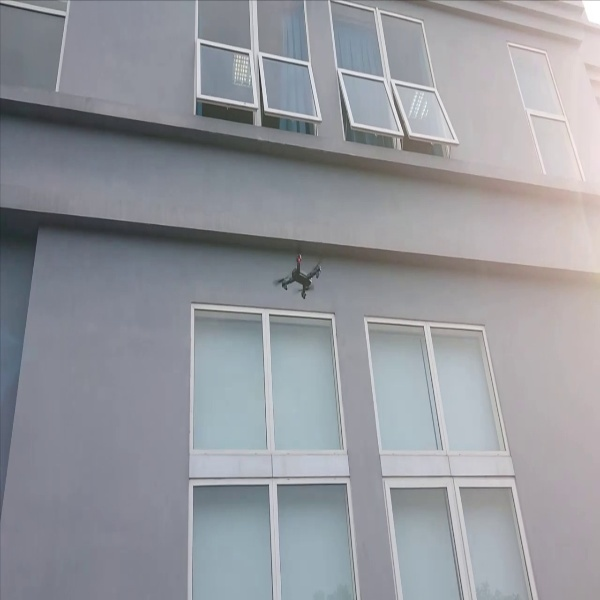drone: (271, 234, 330, 302)
